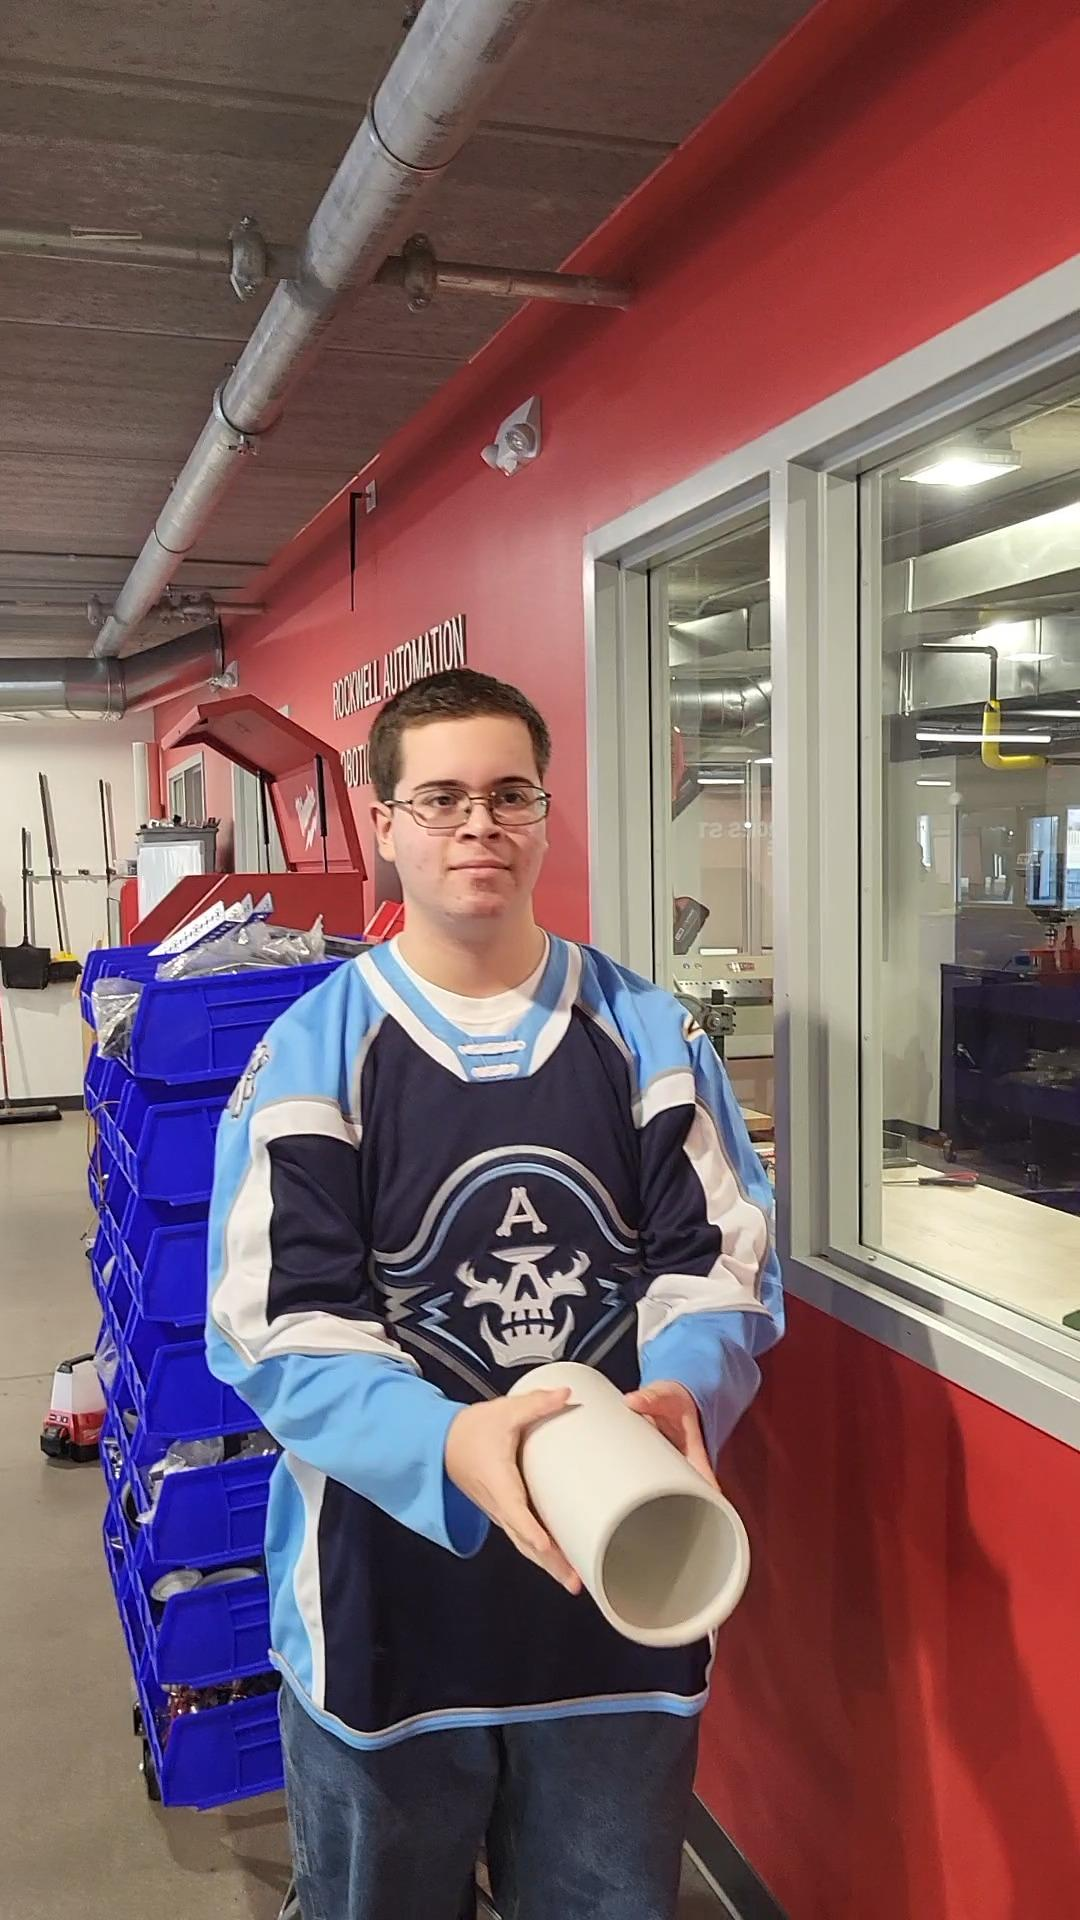coral: (497, 1354, 777, 1654)
